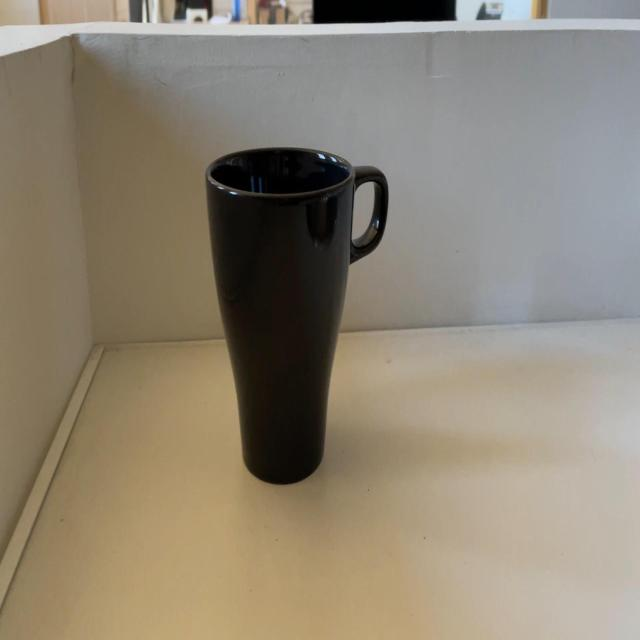cup: (197, 142, 390, 486)
